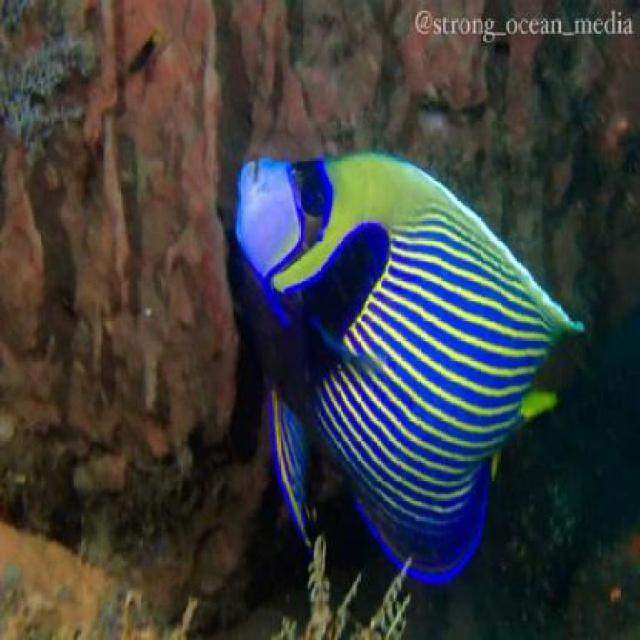AngelFish: (236, 153, 581, 587)
